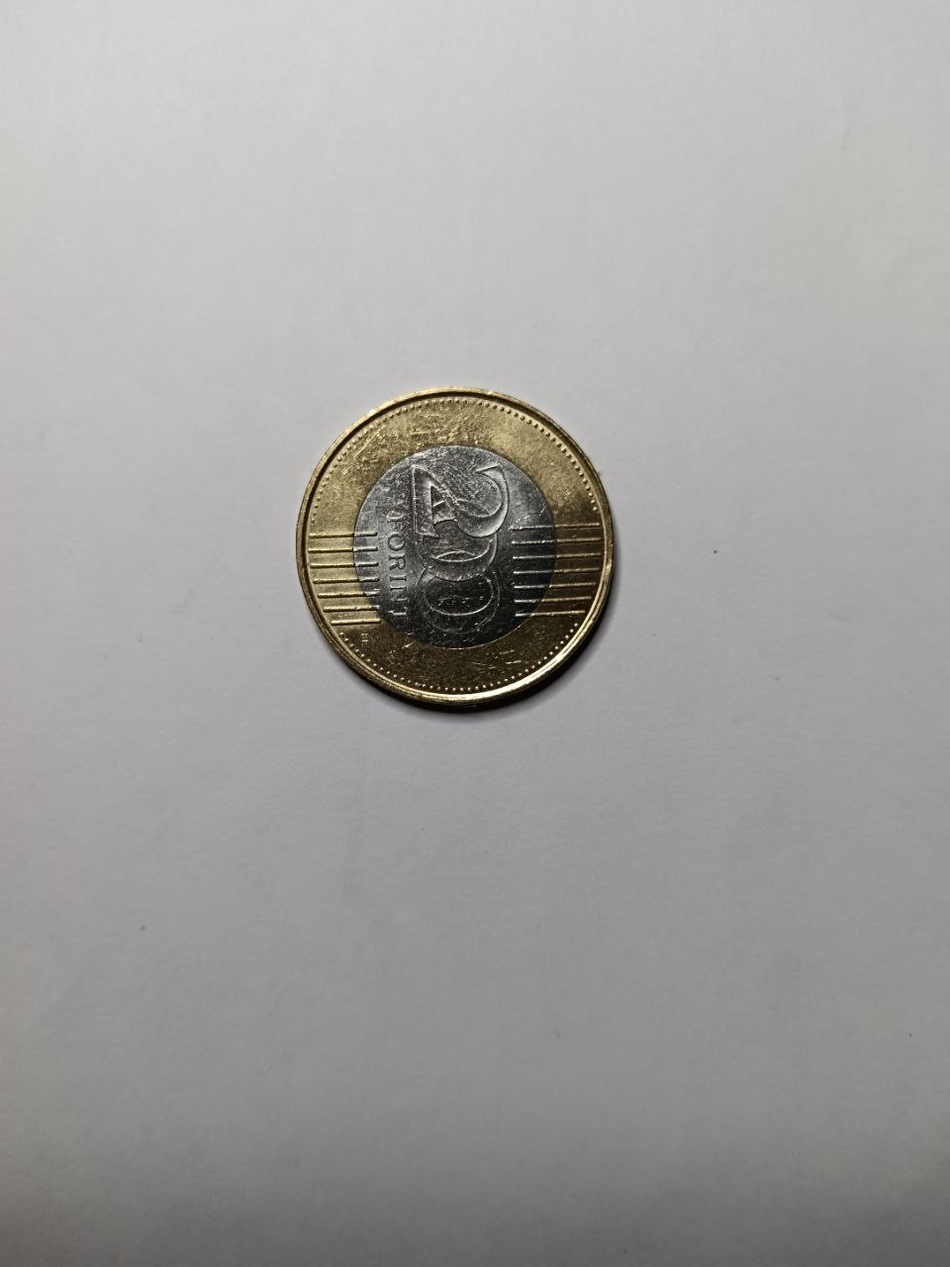200ft: (305, 387, 612, 704)
